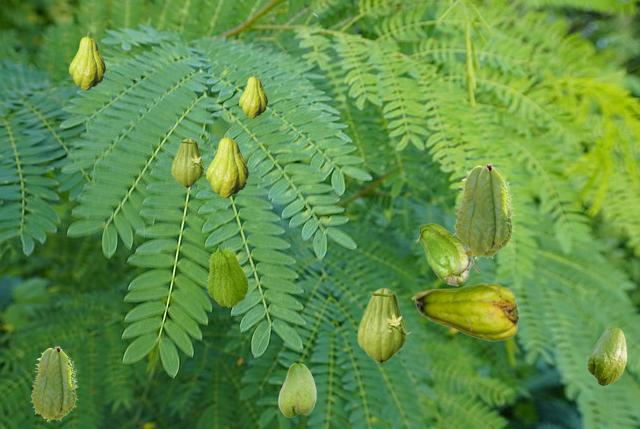sayote: (411, 283, 517, 340), (453, 163, 514, 259), (357, 288, 410, 363), (416, 223, 478, 285), (30, 346, 77, 421), (206, 131, 247, 197), (206, 244, 248, 306), (586, 327, 626, 385), (69, 31, 104, 89), (278, 363, 315, 416), (171, 138, 206, 187), (239, 72, 266, 117)
